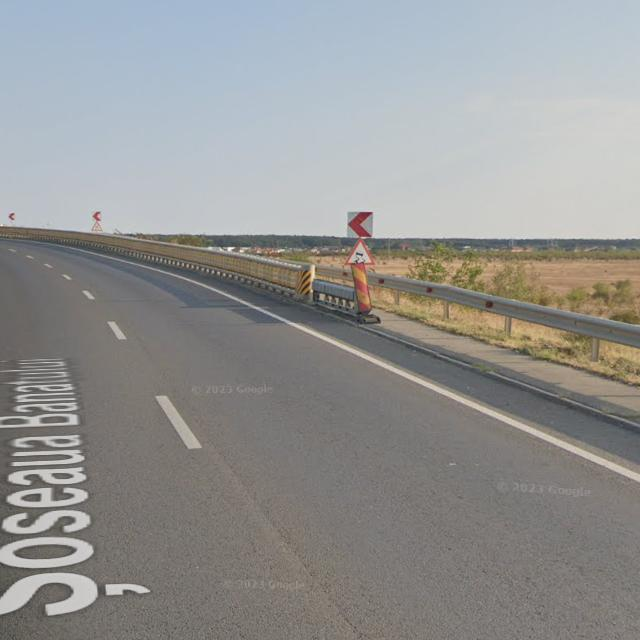warn_slippery_road: (345, 237, 375, 266)
